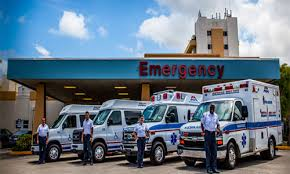ambulance: (179, 79, 282, 169), (120, 86, 202, 166), (71, 98, 146, 164), (31, 104, 102, 164)
car: (8, 129, 30, 147)
